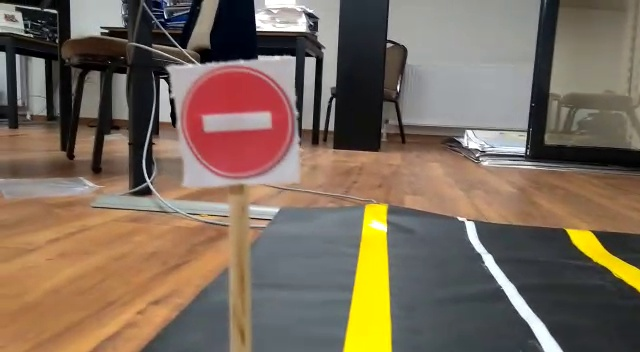girisi_olmayan_yol: (181, 62, 302, 185)
